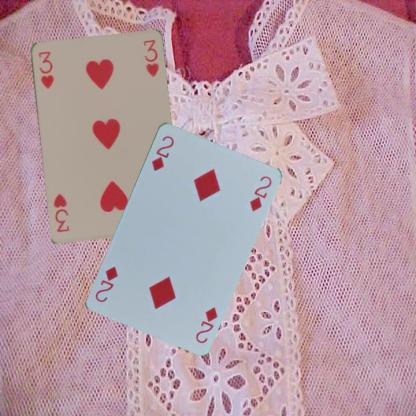2d: (192, 304, 219, 344), (149, 132, 175, 172)
3h: (35, 49, 55, 90)
